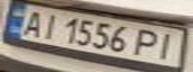1: (57, 15, 81, 45)
5: (90, 20, 112, 52), (75, 17, 96, 47)
6: (109, 24, 133, 54)
A: (15, 7, 48, 37)
I: (151, 29, 181, 61), (36, 11, 63, 40)
P: (130, 27, 166, 58)
